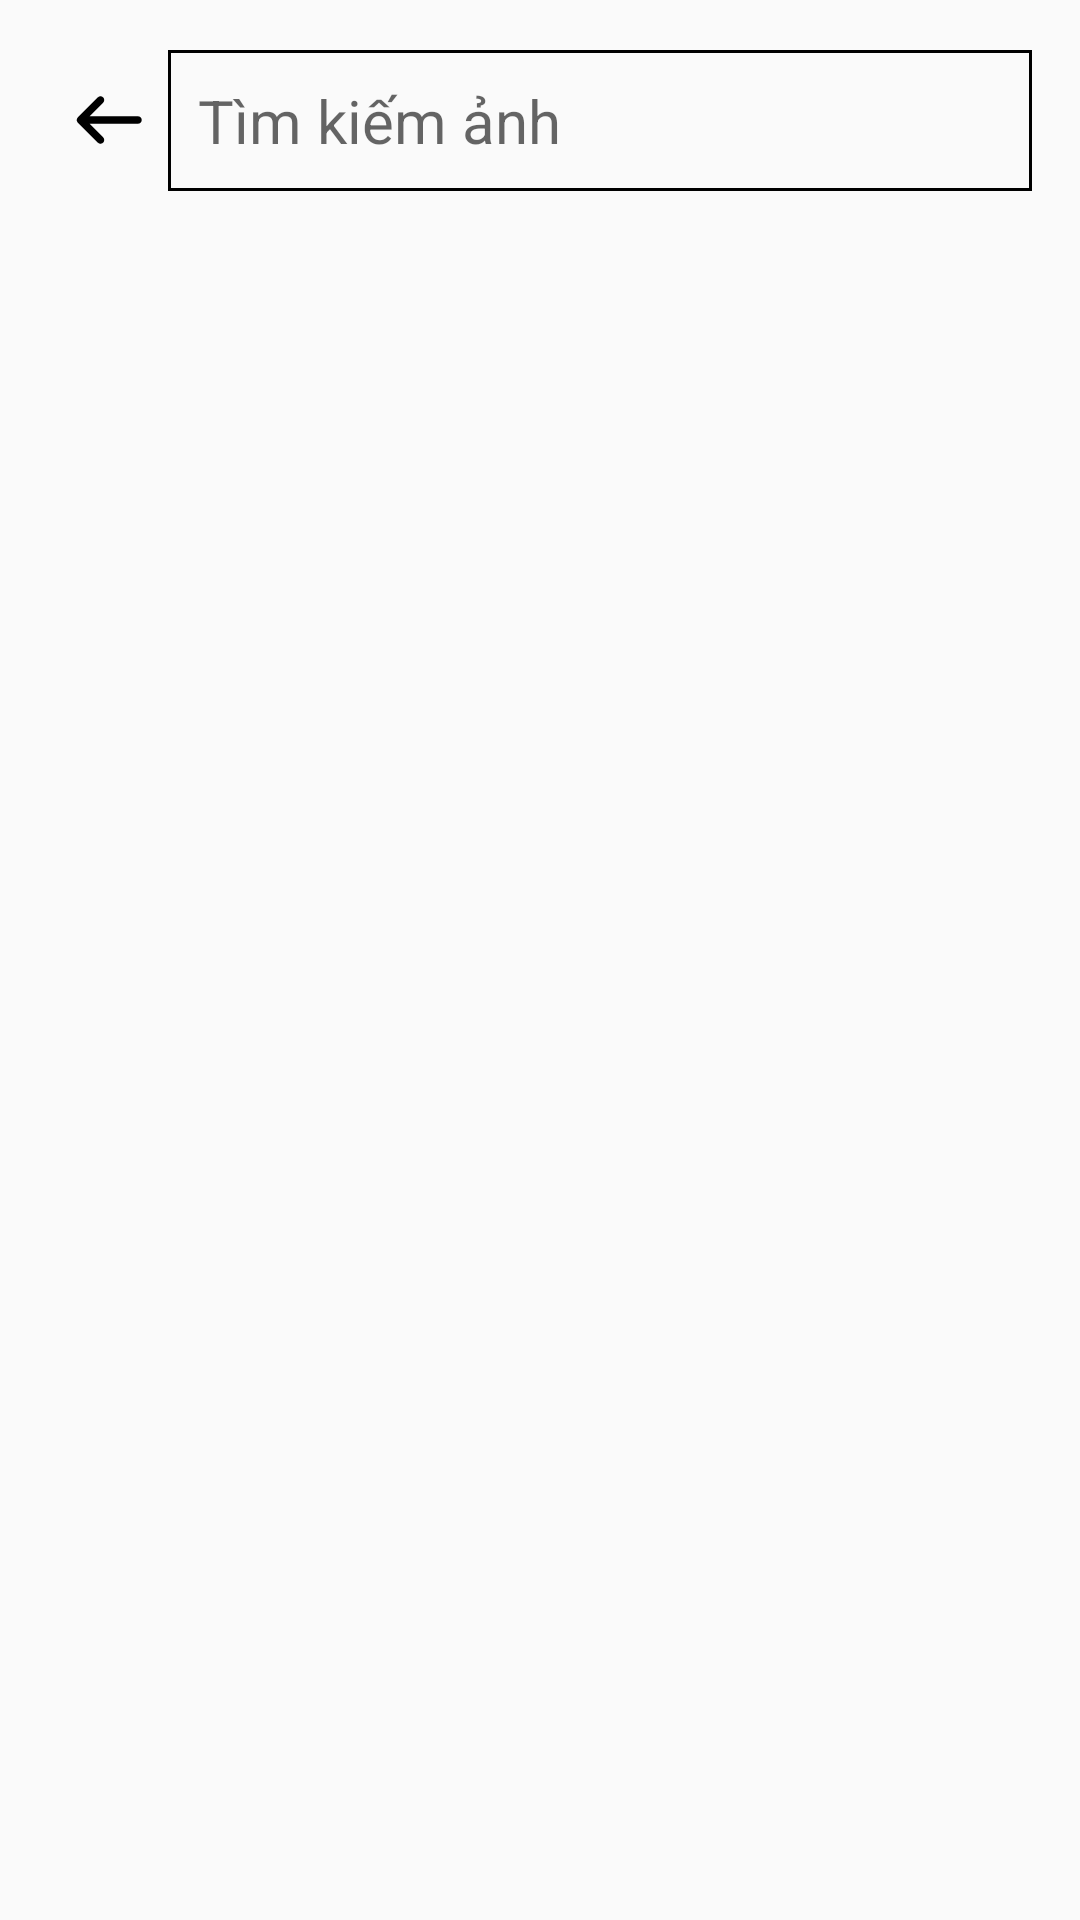

Icons on this 1080 × 1920 Android screen, each with its box as (x1, y1, x2, y2):
arrow left: (76, 96, 142, 144)
